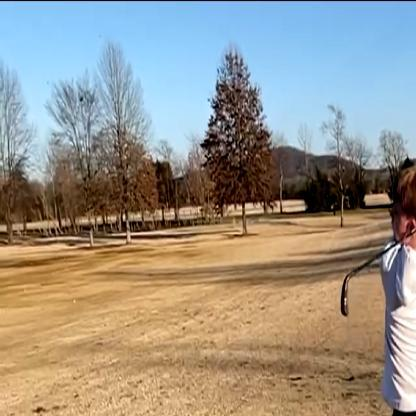GolfBall: (337, 269, 352, 323)
